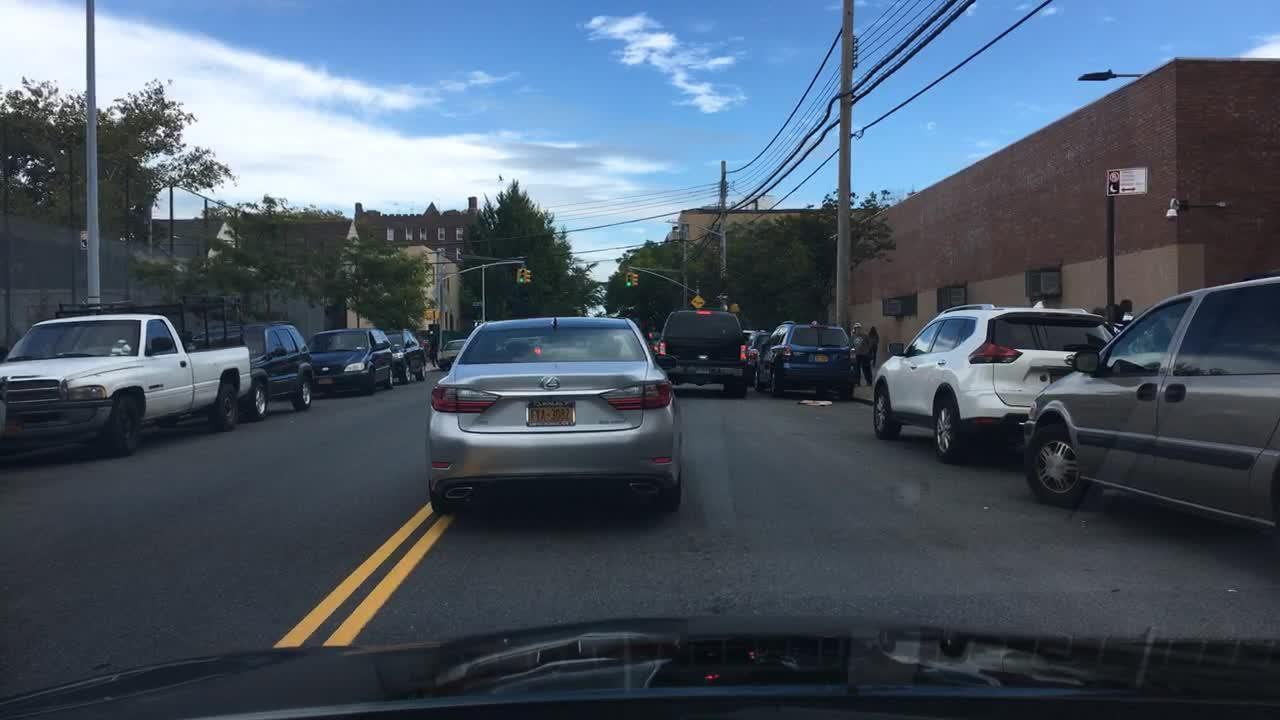lexus: (528, 370, 574, 397)
